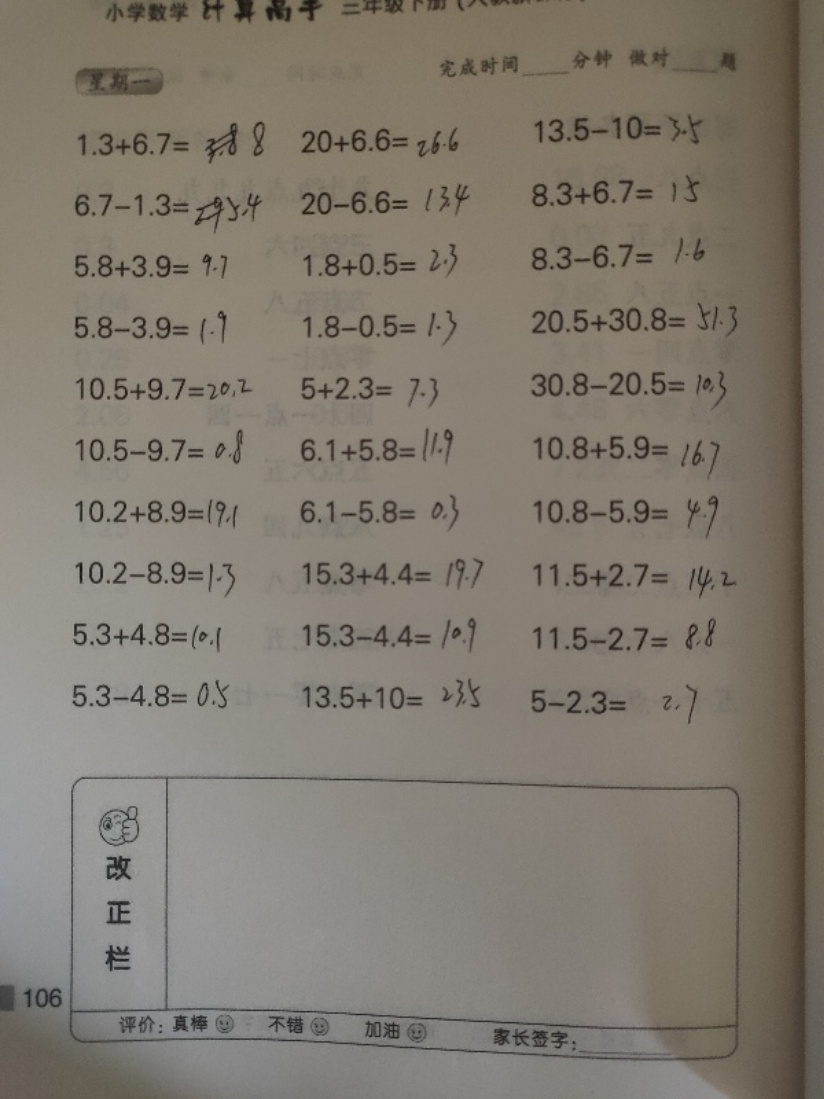equation: (523, 488, 731, 550), (290, 297, 467, 363), (529, 297, 746, 350), (522, 427, 740, 479), (291, 550, 496, 604), (523, 556, 742, 606), (71, 181, 271, 235), (290, 675, 507, 724), (62, 540, 253, 595), (526, 681, 731, 732), (518, 363, 735, 411), (526, 615, 731, 665), (286, 490, 493, 539), (286, 614, 500, 661), (284, 370, 466, 424), (73, 121, 271, 170), (520, 169, 710, 220), (62, 666, 243, 718), (291, 429, 468, 482), (286, 122, 478, 170), (293, 240, 483, 287), (518, 235, 716, 280), (60, 246, 249, 293), (287, 185, 488, 227), (526, 109, 720, 152), (62, 615, 249, 659), (71, 426, 249, 470), (65, 306, 253, 346), (70, 490, 242, 530), (71, 372, 258, 405)
